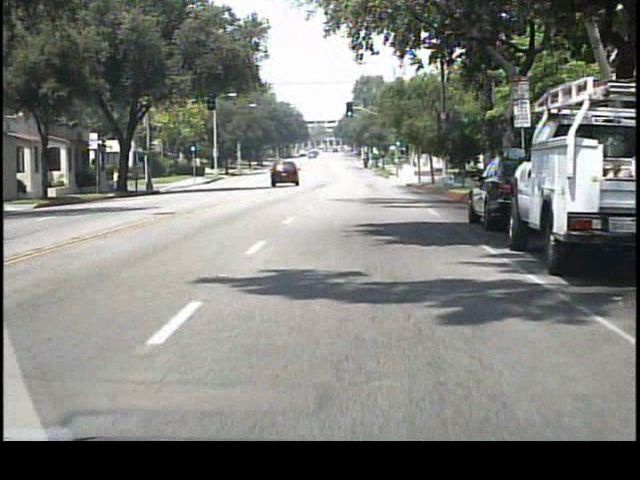person: (115, 169, 123, 192)
